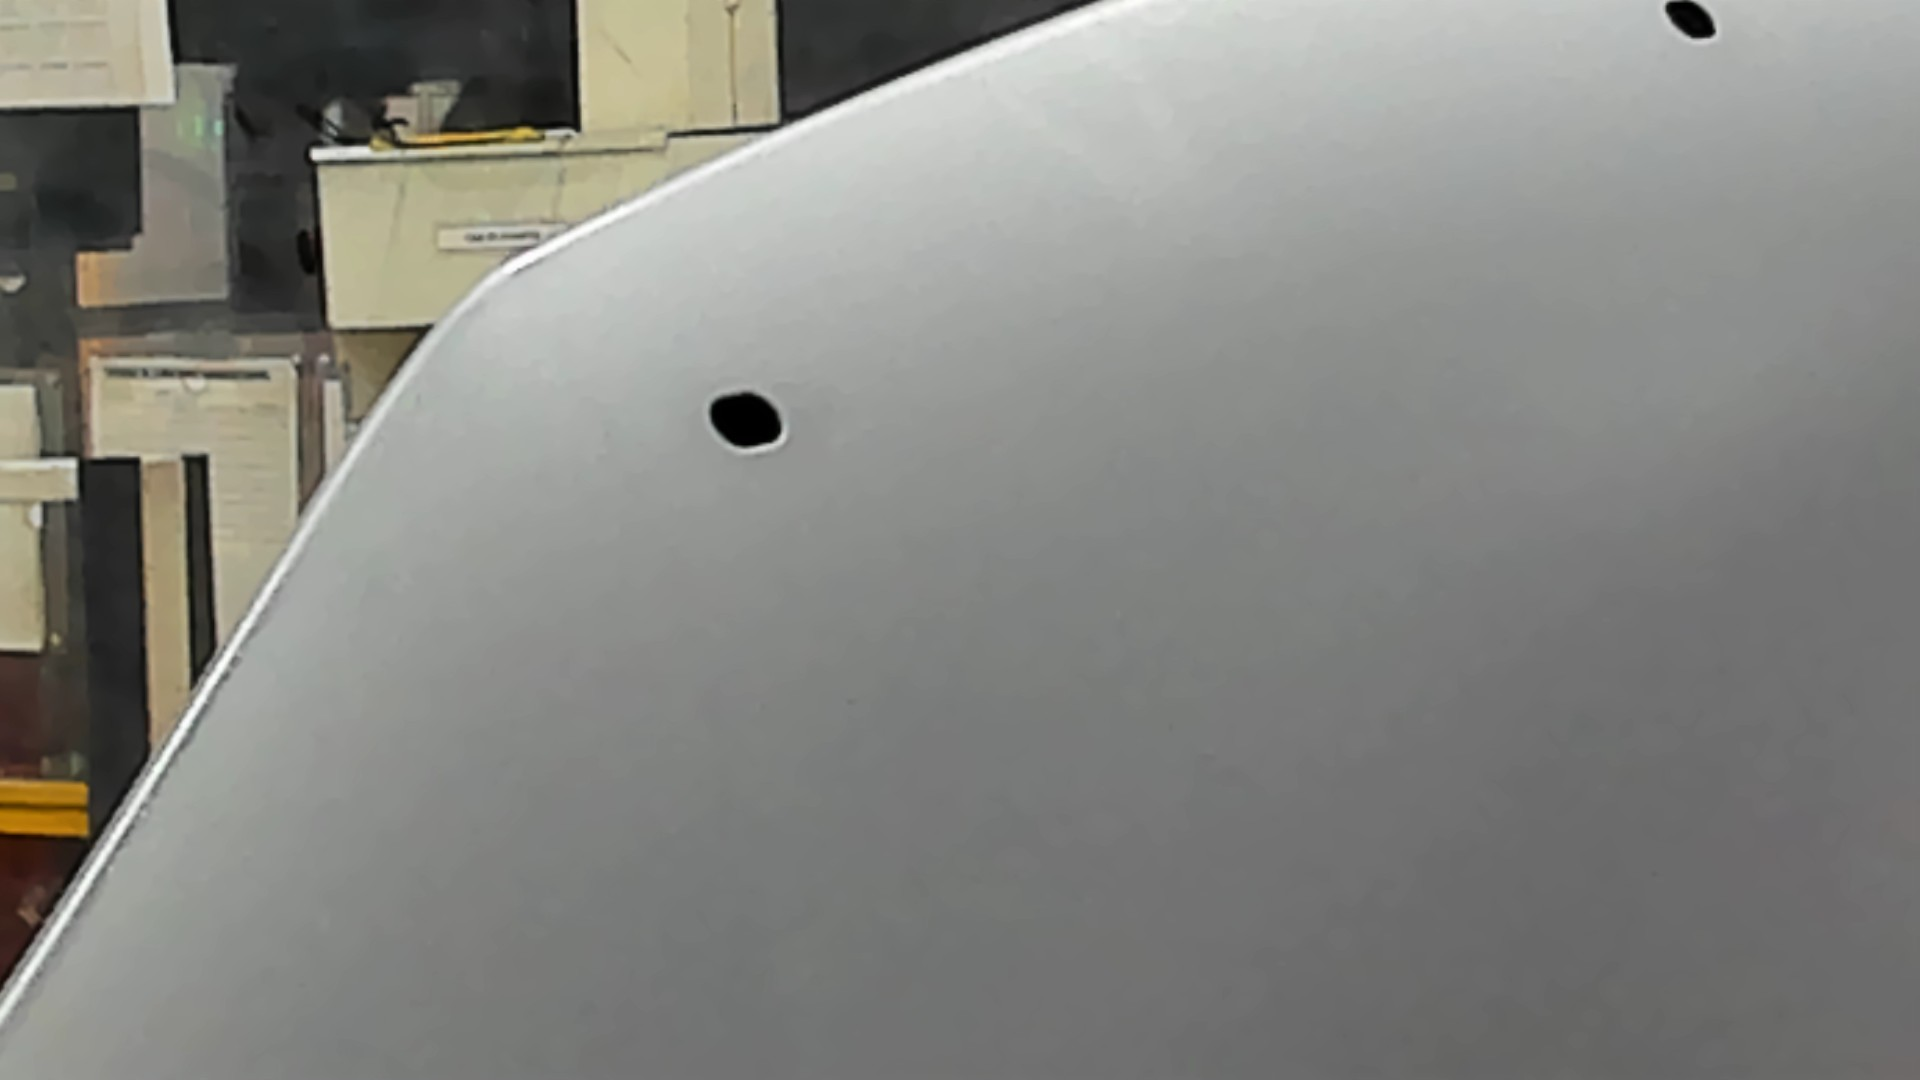Agujero: (705, 389, 787, 454), (1659, 1, 1718, 41)
